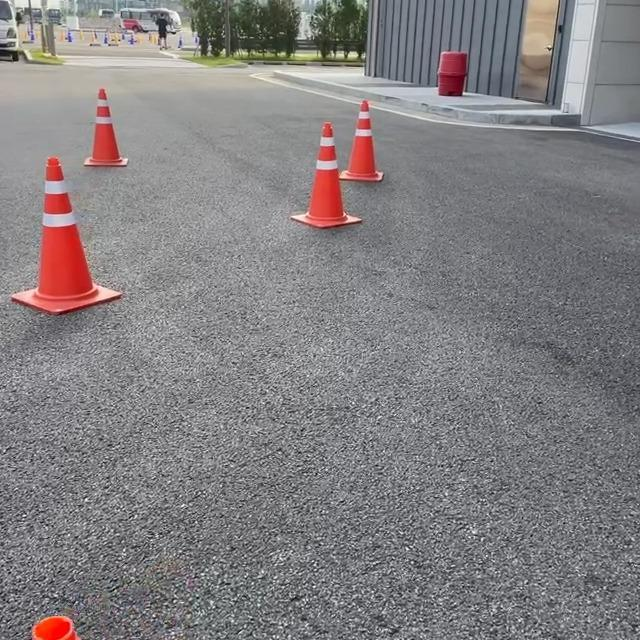fallen_object: (25, 139, 133, 364), (55, 90, 161, 198), (277, 113, 355, 240), (335, 77, 401, 192)
